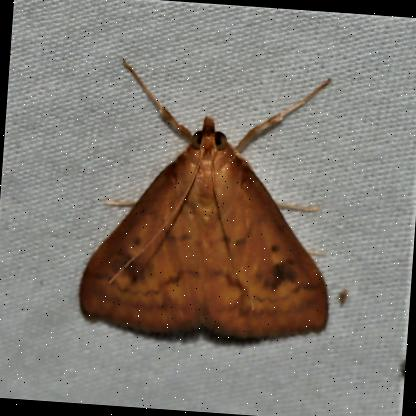Asian Corn Borer Moth: (72, 55, 350, 349)
